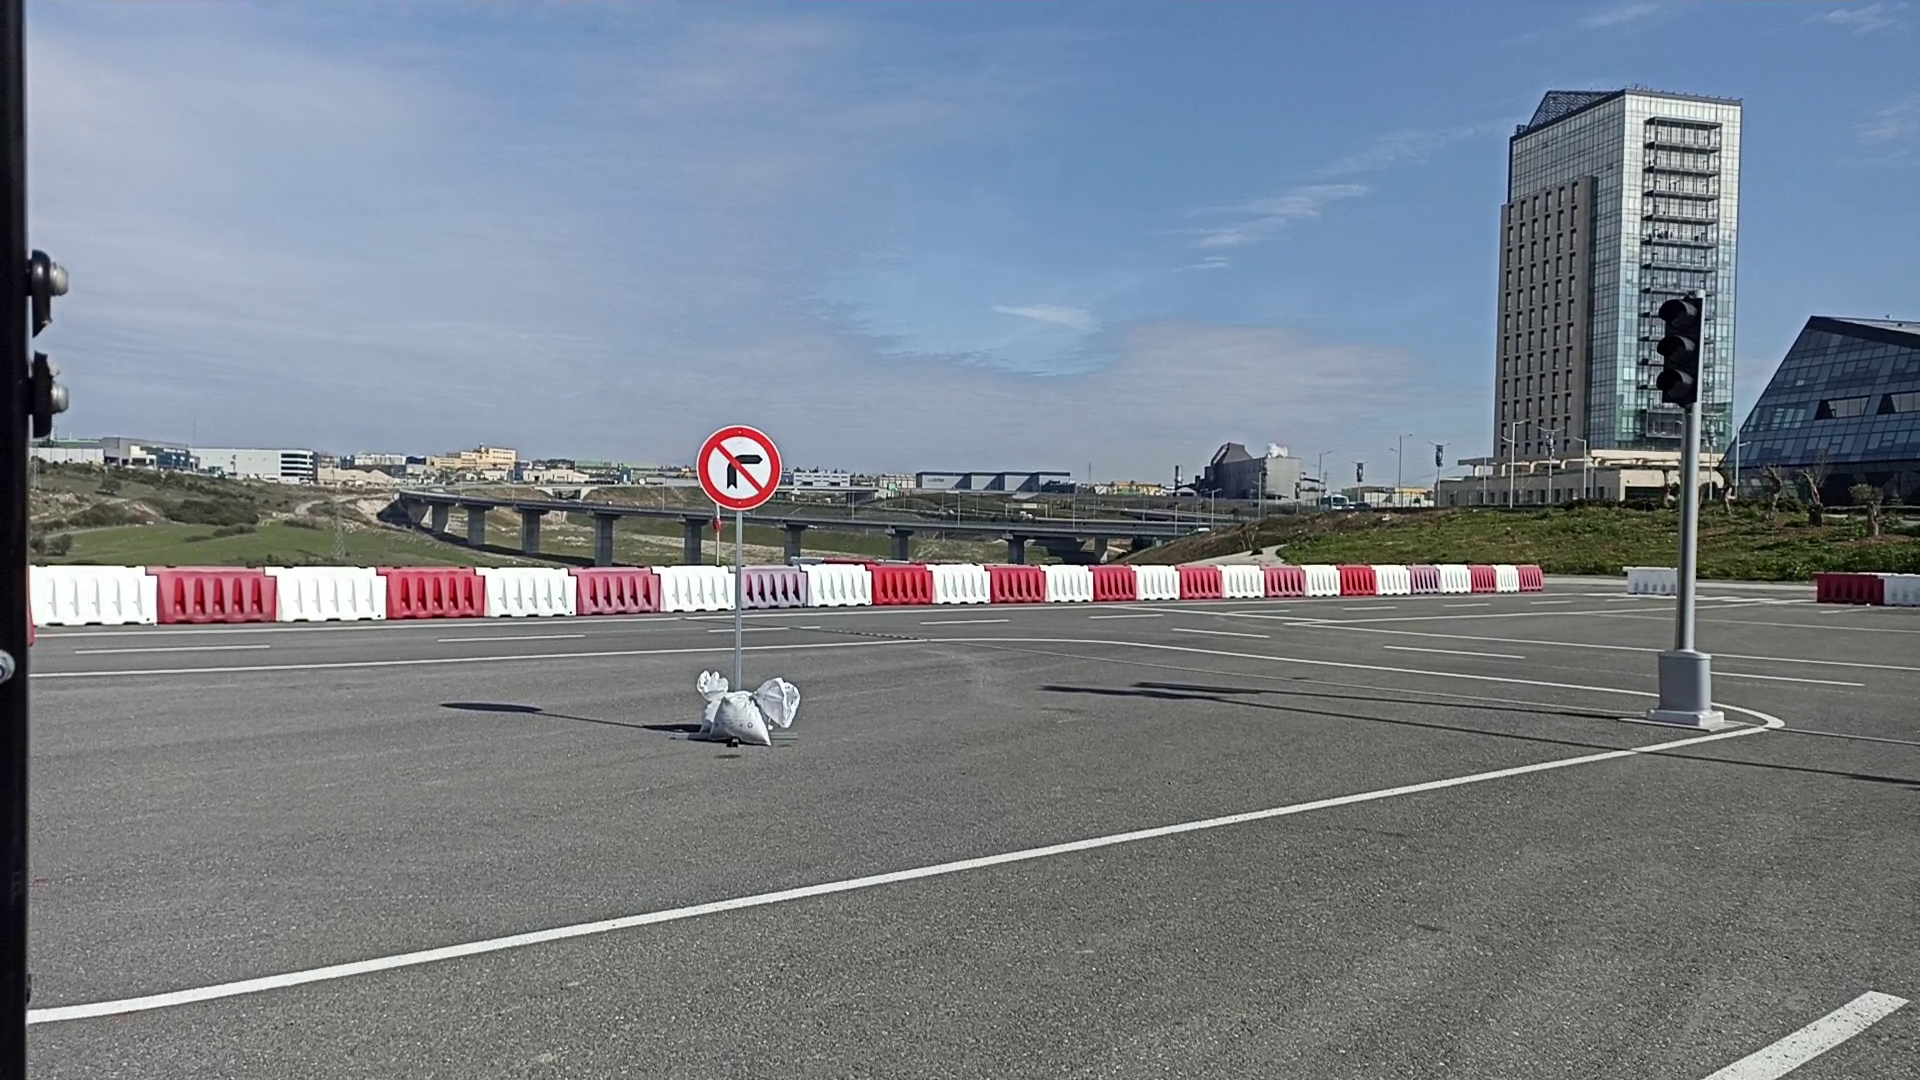noleftturn: (695, 422, 783, 512)
trafficlight: (1651, 291, 1705, 407)
